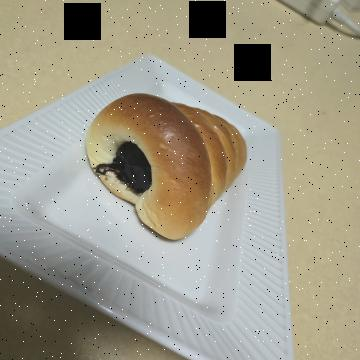cream horn: (71, 111, 259, 293)
